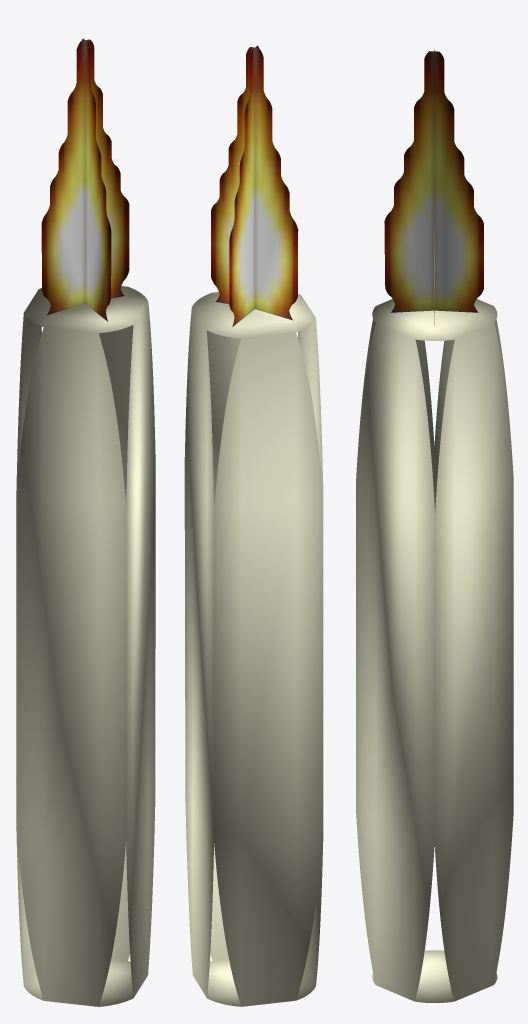
The picture shows the model from 3 angles, left to right: view 1: azimuth 30°, elevation 25°; view 2: azimuth 150°, elevation 25°; view 3: azimuth 270°, elevation 25°; orthographic projection.
Visible parts, largest first — view 1: T1L9M004_4; view 2: T1L9M004_4; view 3: T1L9M004_4.
Boxes of the visible parts, x1,y1,x2,y2 form: T1L9M004_4: [16, 39, 155, 1006]; T1L9M004_4: [184, 45, 323, 1006]; T1L9M004_4: [356, 49, 513, 1002].
Bounding box in the file's own units: 0.166 × 1.06 × 0.166.
